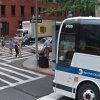Bus: (50, 12, 100, 99)
